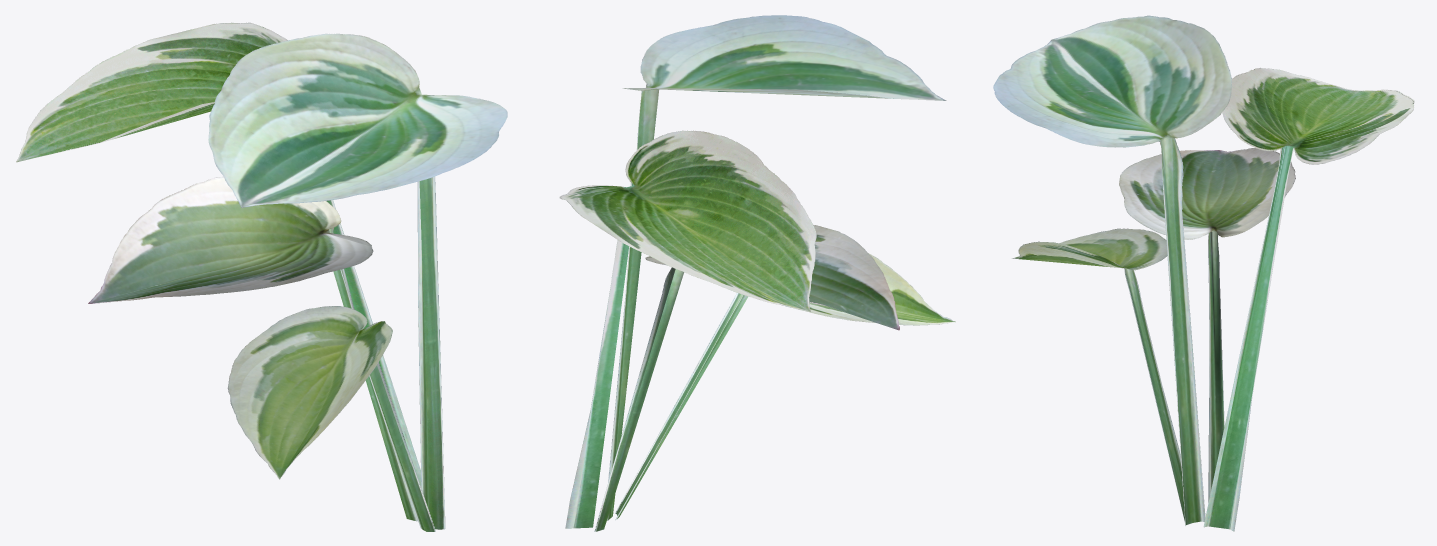
File: plant_small_wg_00_line_filler_01.fbx
The picture shows the model from 3 angles, left to right: view 1: azimuth 30°, elevation 25°; view 2: azimuth 150°, elevation 25°; view 3: azimuth 270°, elevation 25°; orthographic projection. The views are drawn at different scales.
Parts seen in each view (by area): view 1: plant_small_wg_00_line_filler_01; view 2: plant_small_wg_00_line_filler_01; view 3: plant_small_wg_00_line_filler_01.
Boxes of the visible parts, x1=… form: plant_small_wg_00_line_filler_01: x1=16, y1=22, x2=507, y2=531; plant_small_wg_00_line_filler_01: x1=559, y1=15, x2=955, y2=531; plant_small_wg_00_line_filler_01: x1=993, y1=15, x2=1414, y2=531.
Size of the model in its own units: 26.51 by 36.62 by 34.3.
Materials: 1 (1 with a texture image).
